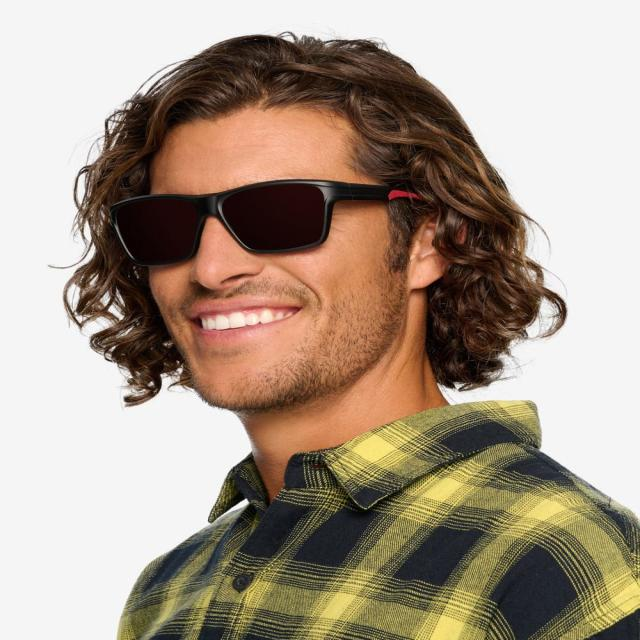2_gafas: (106, 177, 425, 267)
